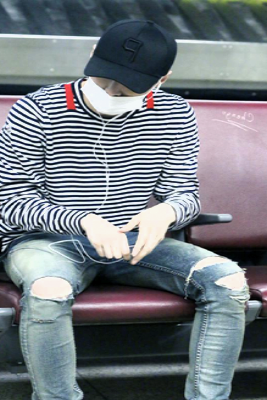mask_weared_incorrect: (77, 77, 153, 117)
